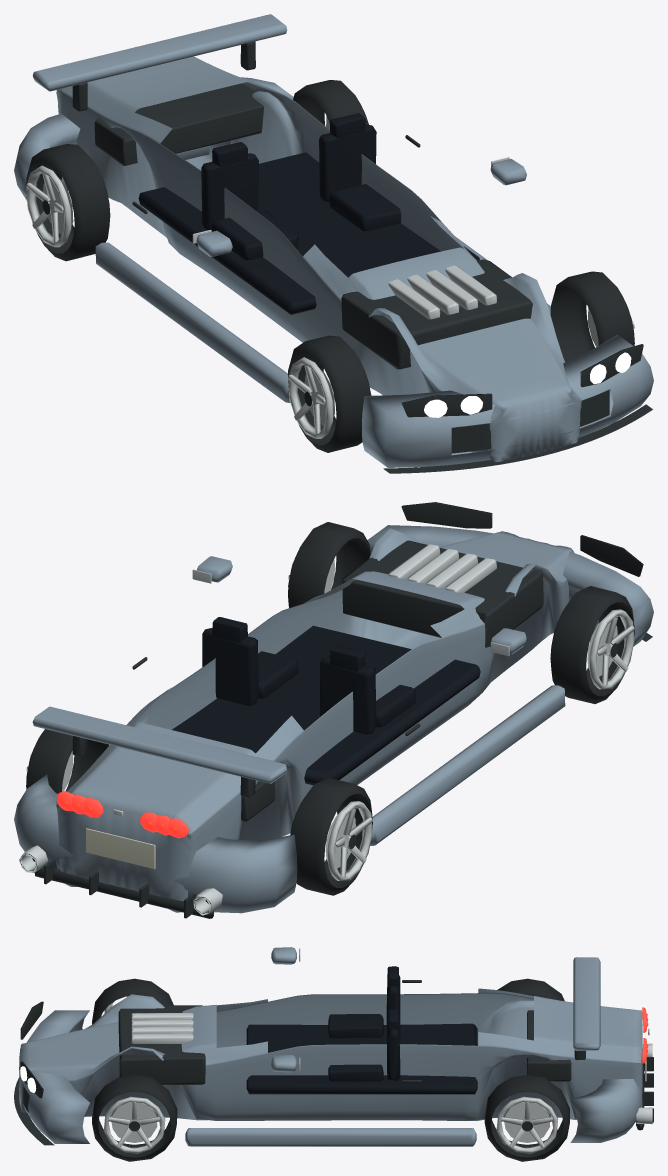
File: drevalyn-torvane.glb
The picture shows the model from 3 angles, top to bottom: view 1: azimuth 30°, elevation 25°; view 2: azimuth 150°, elevation 25°; view 3: azimuth 270°, elevation 25°; orthographic projection. The views are drawn at different scales.
Visible parts, largest first — view 1: scocca, interni, paraurti_ant, cofano, porta_sx, motore, audio_bagagliaio, minigonna_sx, spoiler, ruota_post_sx_gomma, ruota_ant_dx_gomma, ruota_ant_sx_gomma (+25 smaller); view 2: scocca, interni, paraurti_post, motore, portellone, porta_sx, minigonna_sx, spoiler, ruota_ant_sx_gomma, ruota_post_sx_gomma, paraurti_ant, porta_dx (+24 smaller); view 3: scocca, porta_dx, interni, porta_sx, minigonna_dx, paraurti_ant, cofano, motore, portellone, paraurti_post, ruota_ant_dx_gomma, ruota_post_dx_gomma (+22 smaller).
Boxes of the visible parts, x1,y1,x2,y2 form: scocca: (56,81,581,462); interni: (138,152,479,314); paraurti_ant: (362,334,653,467); cofano: (348,247,564,394); porta_sx: (160,144,315,342); motore: (341,259,532,369); audio_bagagliaio: (94,83,263,165); minigonna_sx: (95,242,290,402); spoiler: (32,14,287,91); ruota_post_sx_gomma: (26,144,110,261); ruota_ant_dx_gomma: (550,271,634,361); ruota_ant_sx_gomma: (288,335,371,452); scocca: (56,528,574,912); interni: (172,625,480,785); paraurti_post: (14,774,297,913); motore: (342,540,543,647); portellone: (70,722,255,819); porta_sx: (302,634,453,799); minigonna_sx: (370,685,565,845); spoiler: (32,706,286,783); ruota_ant_sx_gomma: (550,586,634,703); ruota_post_sx_gomma: (290,777,372,895); paraurti_ant: (367,525,653,646); porta_dx: (159,600,312,729); scocca: (19,988,642,1120); porta_dx: (252,1044,478,1120); interni: (246,1023,477,1094); porta_sx: (252,993,478,1045); minigonna_dx: (185,1128,476,1146); paraurti_ant: (19,1010,89,1143); cofano: (42,1004,216,1071); motore: (118,1005,205,1084); portellone: (534,996,642,1051); paraurti_post: (570,1079,641,1142); ruota_ant_dx_gomma: (92,1075,177,1161); ruota_post_dx_gomma: (484,1075,569,1161).
Bounding box in the file's own units: 2.2 × 1.01 × 5.08.
